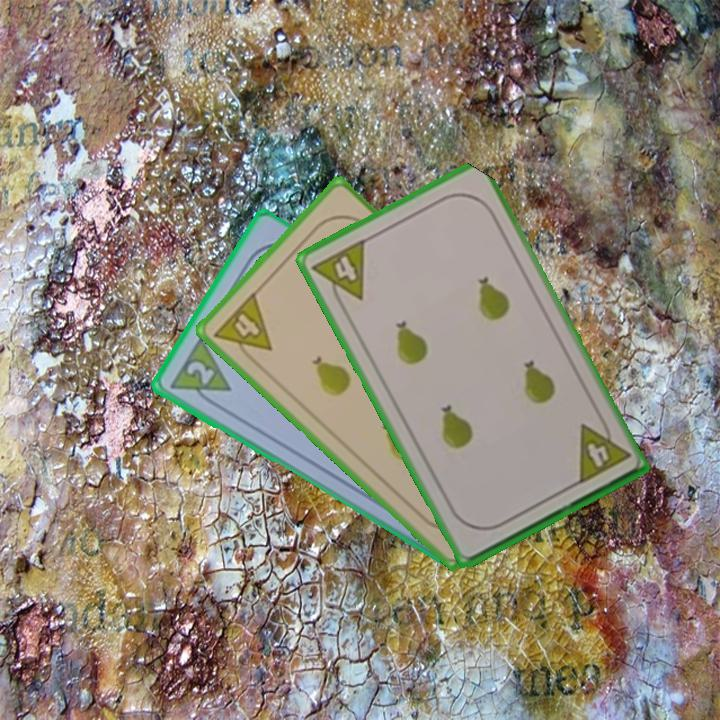2p: (165, 333, 234, 412)
4p: (209, 288, 275, 369), (308, 235, 368, 312), (573, 412, 633, 487)
